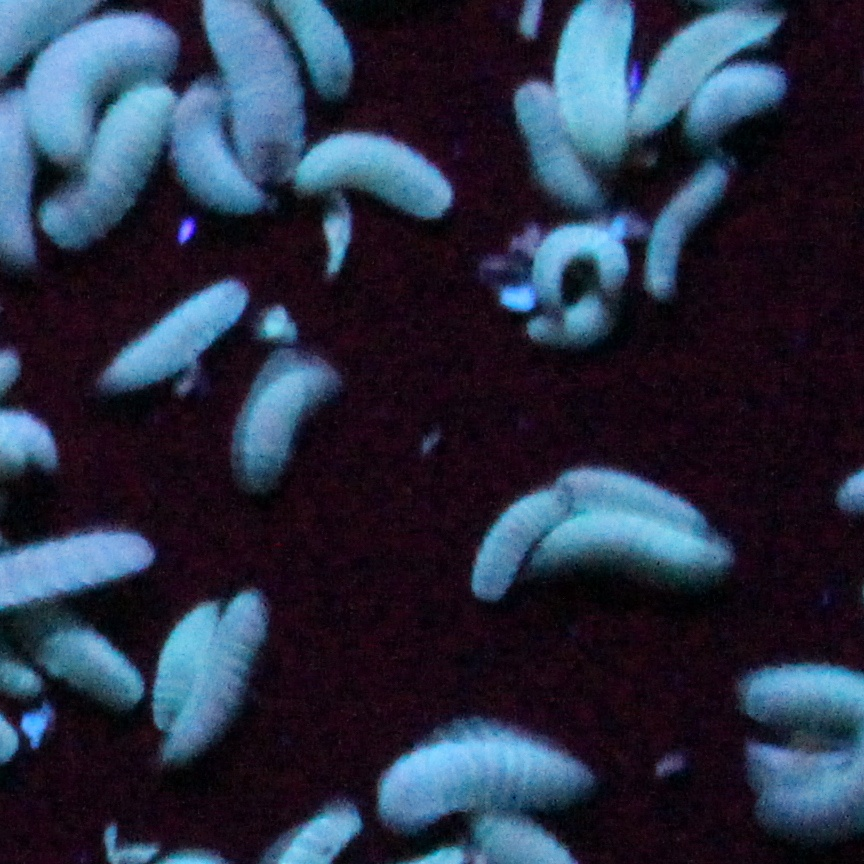larve: (376, 723, 597, 831), (39, 78, 171, 253), (24, 19, 179, 163), (630, 13, 783, 145), (167, 592, 267, 763), (102, 284, 247, 392), (296, 129, 459, 219), (532, 514, 736, 580), (18, 614, 145, 717), (236, 353, 332, 488), (171, 86, 267, 214), (549, 463, 712, 535), (506, 82, 602, 204), (469, 488, 571, 600), (647, 166, 726, 300), (147, 600, 222, 729), (536, 227, 626, 329), (683, 64, 783, 141), (745, 739, 849, 778), (534, 296, 616, 341)
